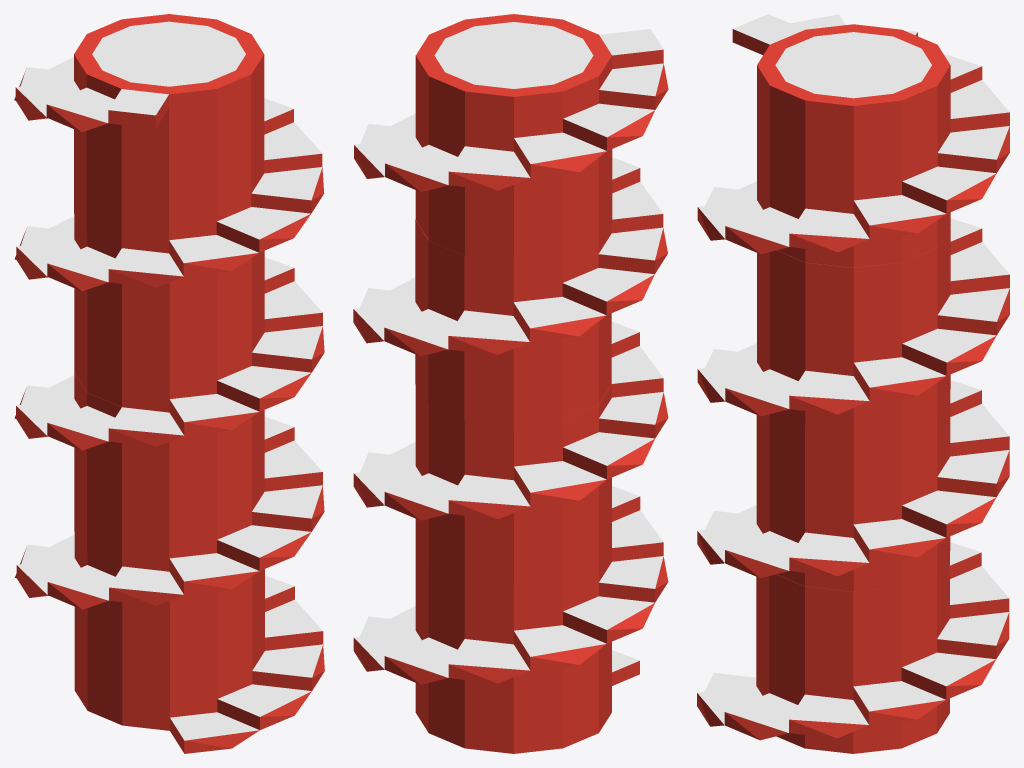
Rendered from SpiralStairs.fbx.
3 views of the same model, side by side, from view 1: azimuth 30°, elevation 25°; view 2: azimuth 150°, elevation 25°; view 3: azimuth 270°, elevation 25° (orthographic). The views are drawn at different scales.
Parts seen in each view (by area): view 1: group1715935696, group1247148681, group1552839151, group851901991; view 2: group1715935696, group1247148681, group1552839151, group851901991; view 3: group1715935696, group1552839151, group1247148681, group851901991.
Part boxes in pixels (box(x1,y1,x2,y2)): group1715935696: box(14, 14, 324, 276); group1247148681: box(14, 372, 324, 594); group1552839151: box(15, 532, 324, 753); group851901991: box(15, 214, 324, 435); group1715935696: box(354, 14, 668, 261); group1247148681: box(353, 346, 668, 589); group1552839151: box(353, 510, 668, 753); group851901991: box(353, 182, 667, 425); group1715935696: box(697, 14, 1009, 267); group1552839151: box(697, 505, 1009, 753); group1247148681: box(697, 343, 1009, 591); group851901991: box(697, 181, 1009, 429).
Size of the model in its own units: 21 by 48 by 21.
